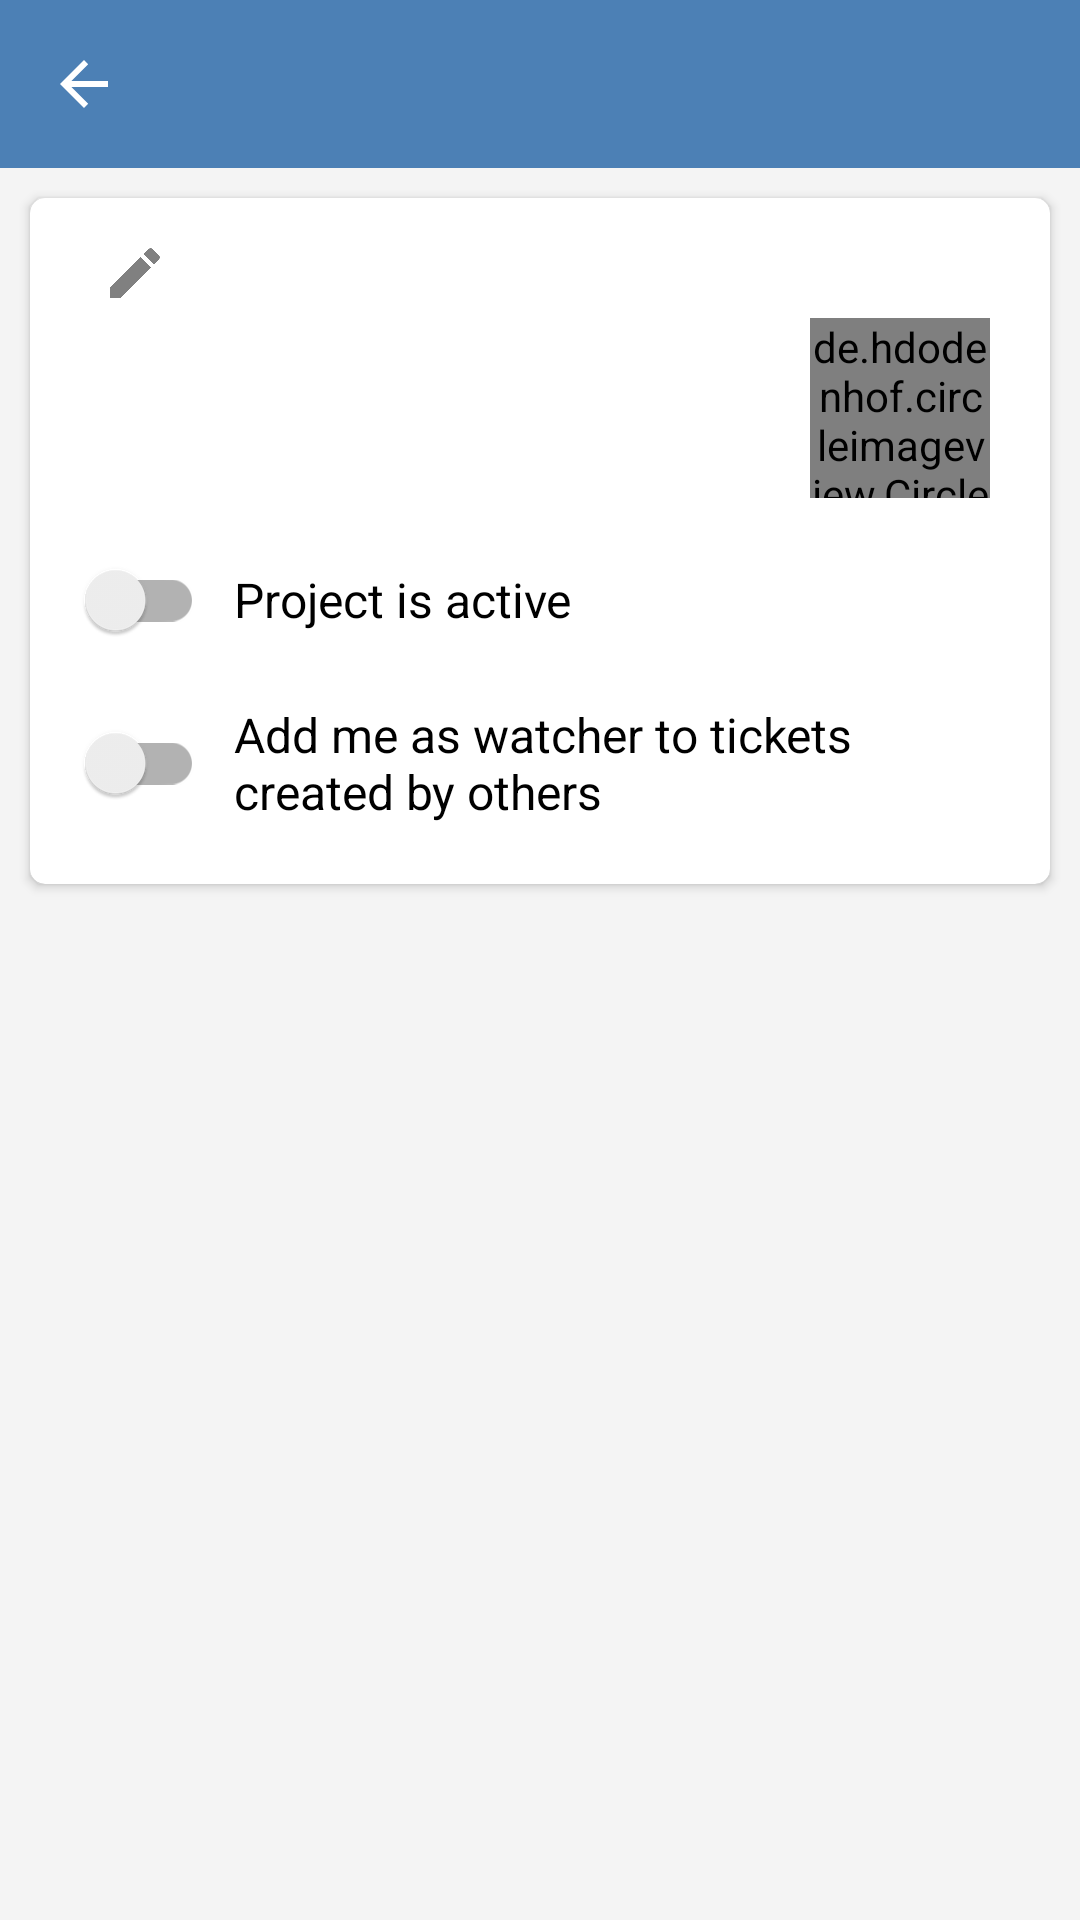

Screen size 1080 × 1920. Icon name, then its center in pixels as point (x, y):
edit: point (135, 273)
